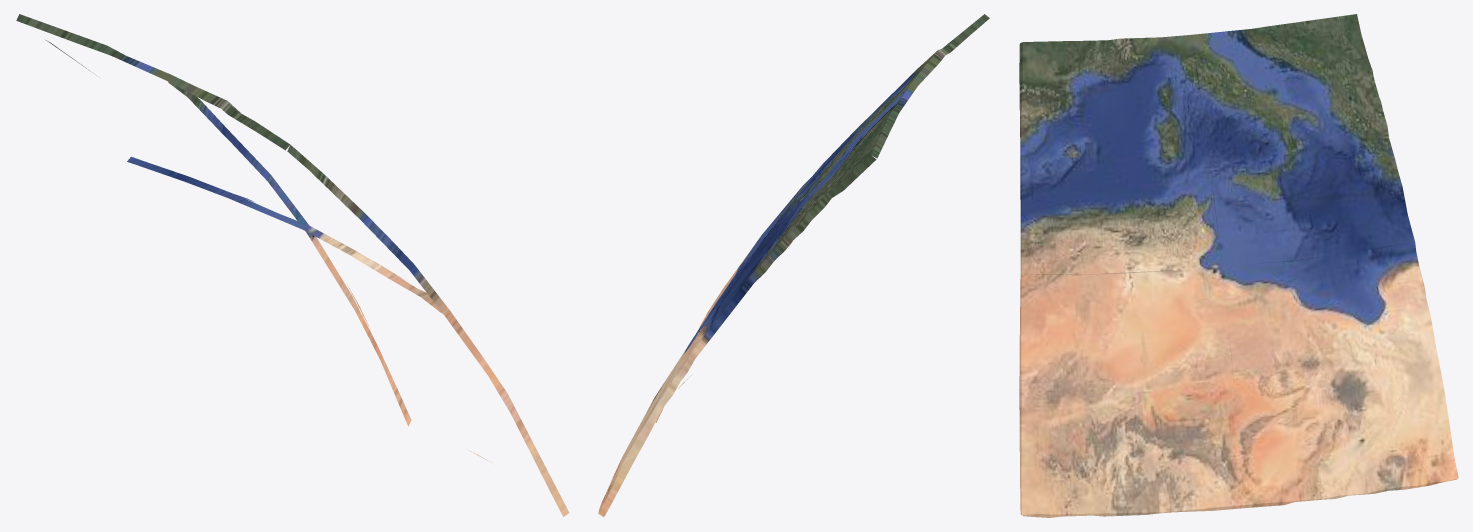
3 renders of one model, left to right at view 1: azimuth 30°, elevation 25°; view 2: azimuth 150°, elevation 25°; view 3: azimuth 270°, elevation 25°, orthographic. The views are drawn at different scales.
Bounding box in the file's own units: 1757827 × 2112393 × 2285121.
1 material, 1 textured.
